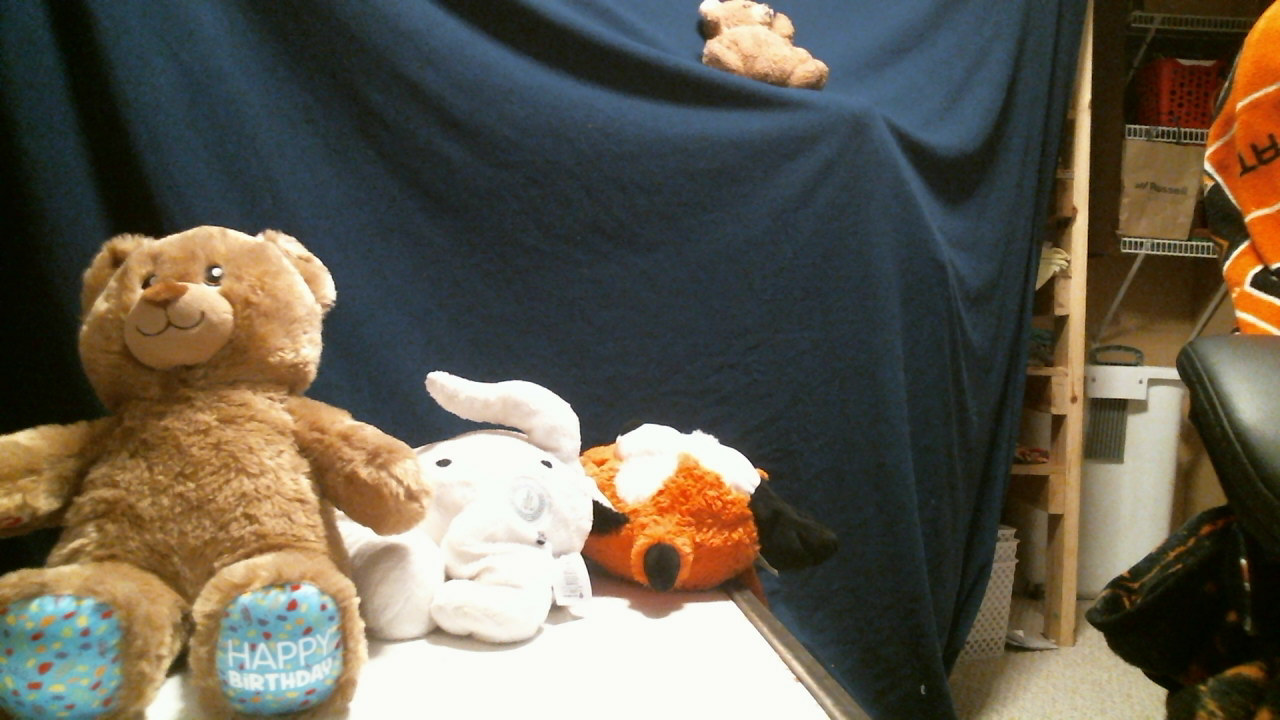Little_Mister_Bear: (706, 5, 782, 41)
